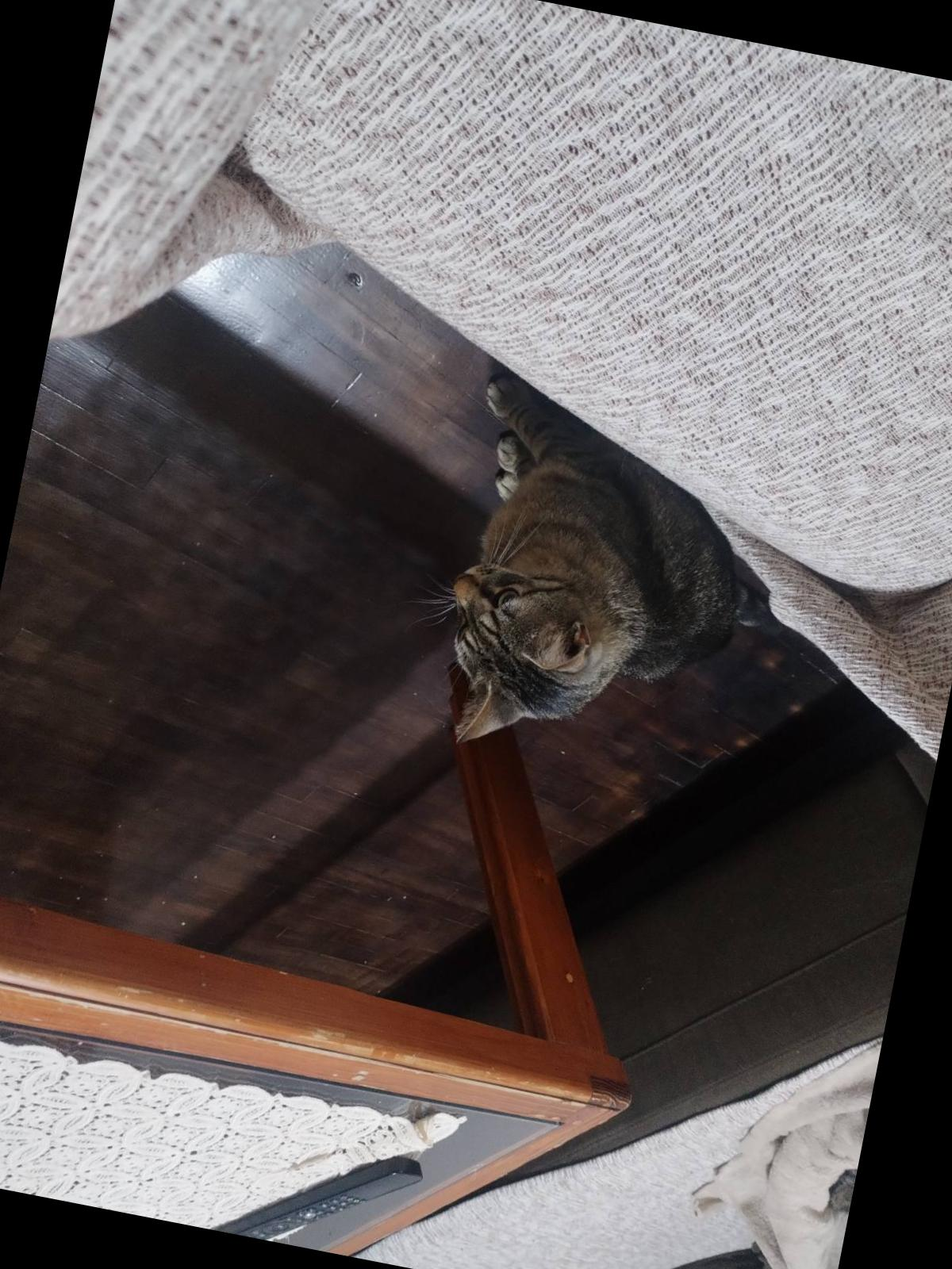macka: (404, 378, 802, 802)
